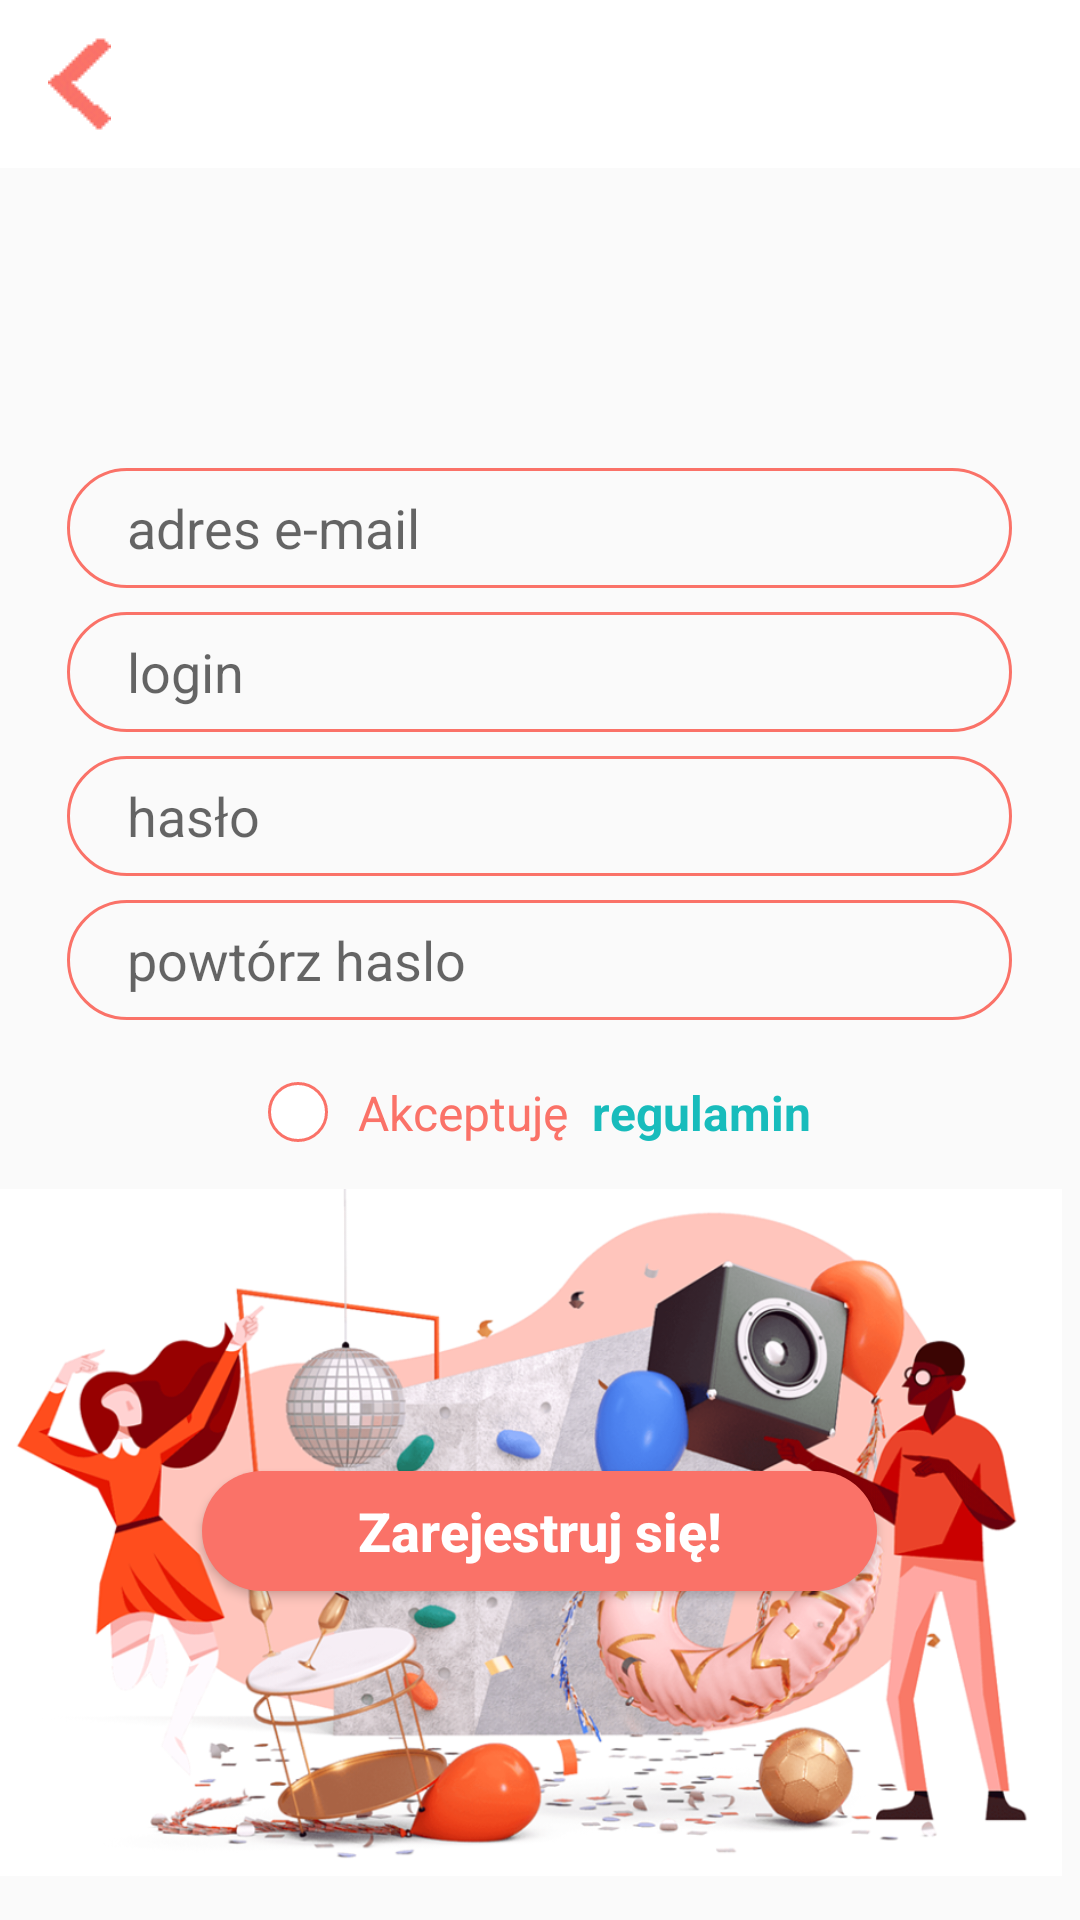

Locate icon controls on the screen. Image size 1080*1920, boxes as (x1, y1, x2, y2).
back: (48, 38, 111, 130)
